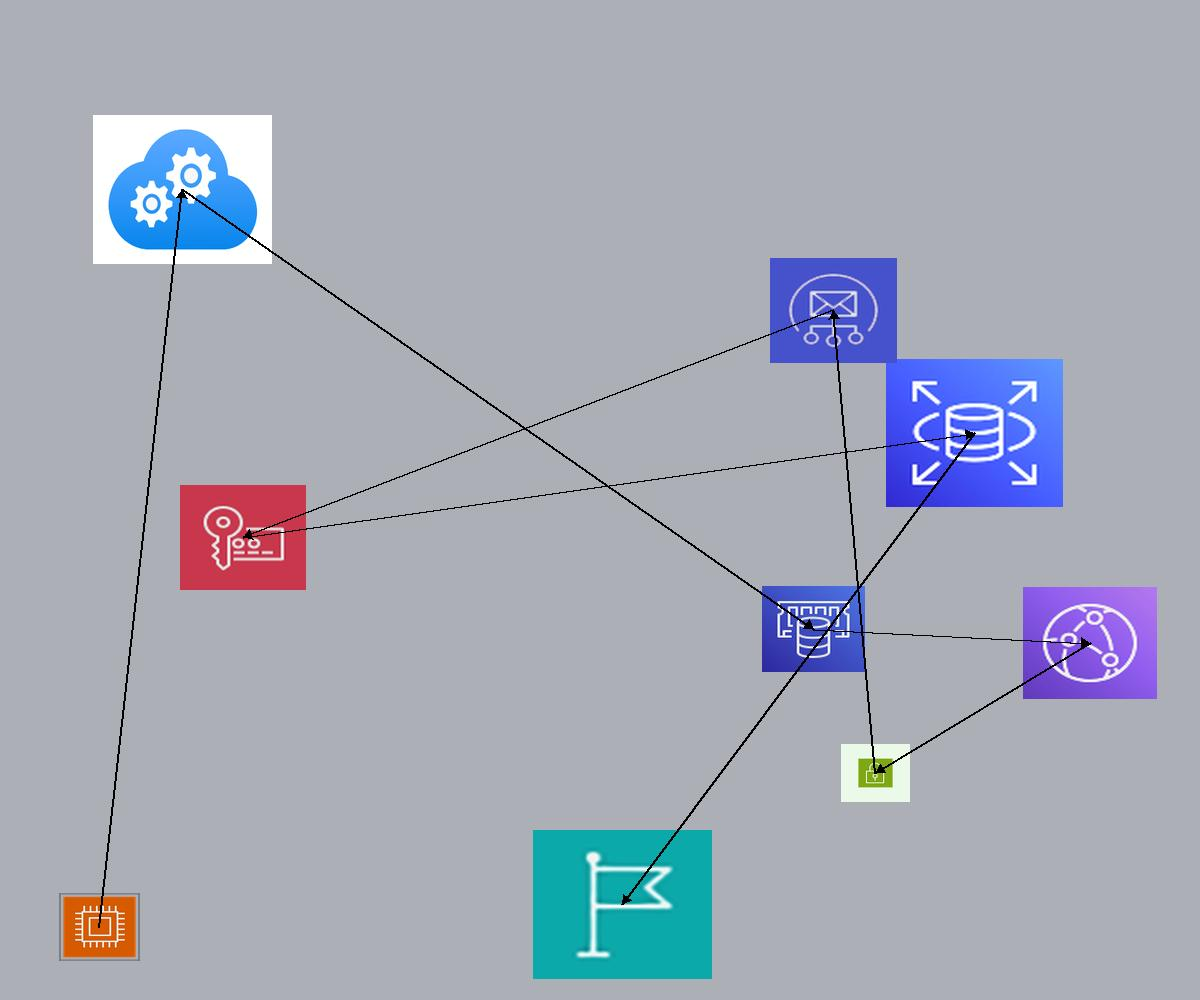AWS-Category_Compute: (59, 893, 140, 961)
AWS-CloudFront: (1023, 587, 1157, 699)
AWS-ElastiCache: (762, 586, 865, 672)
AWS-Key-Management-Service: (180, 485, 306, 590)
AWS-Public-subnet: (841, 744, 910, 802)
AWS-RDS: (886, 359, 1063, 507)
AWS-Region: (533, 830, 712, 979)
AWS-Simple-Email-Service: (770, 258, 897, 363)
Azure_cloud_services: (93, 115, 272, 264)
